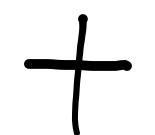plus: (24, 14, 133, 135)
